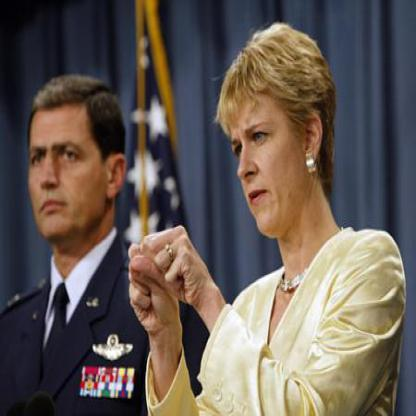face: (227, 45, 306, 242), (20, 78, 110, 242)
